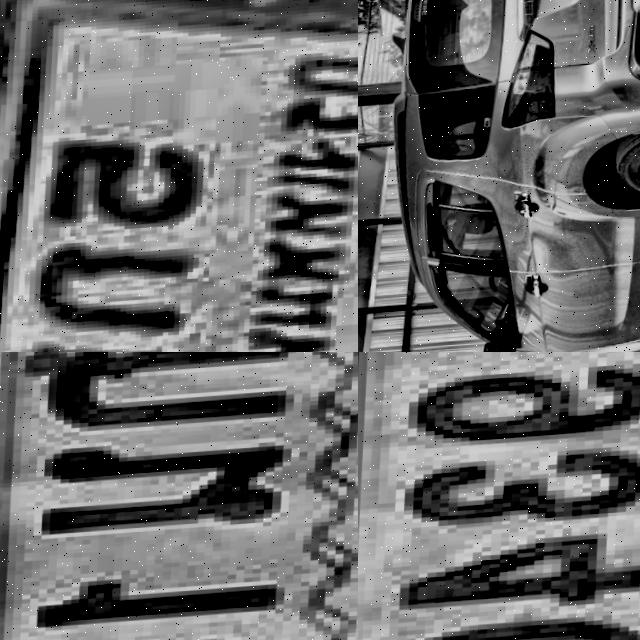license-plate: (0, 0, 358, 352), (0, 352, 358, 640), (358, 352, 640, 640)
